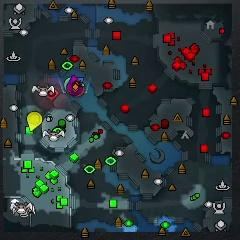p1: (77, 75, 85, 83)
p2: (64, 77, 71, 91)
p3: (66, 75, 83, 96)
p4: (26, 111, 42, 132)
p5: (75, 85, 86, 98)
